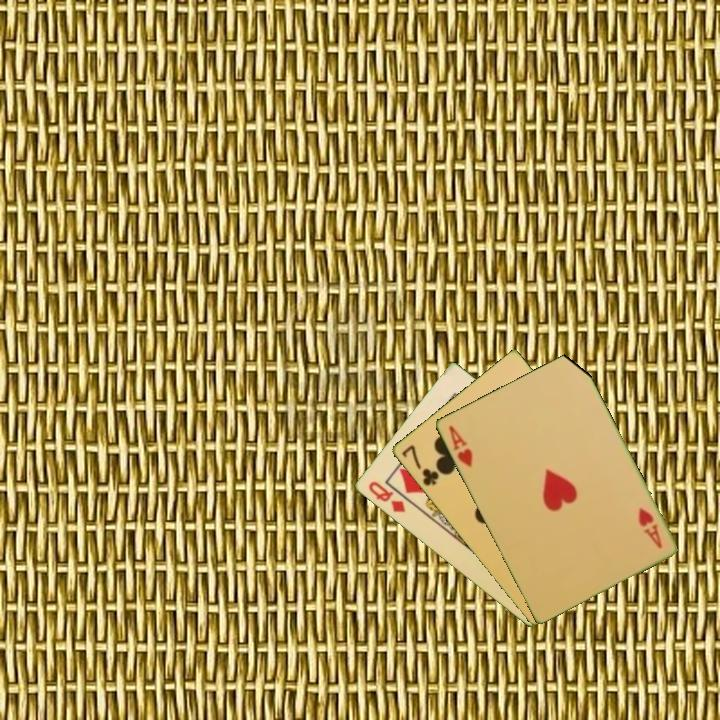7c: (398, 441, 442, 489)
Ah: (634, 504, 665, 551), (445, 422, 475, 470)
Qd: (364, 478, 408, 516)
